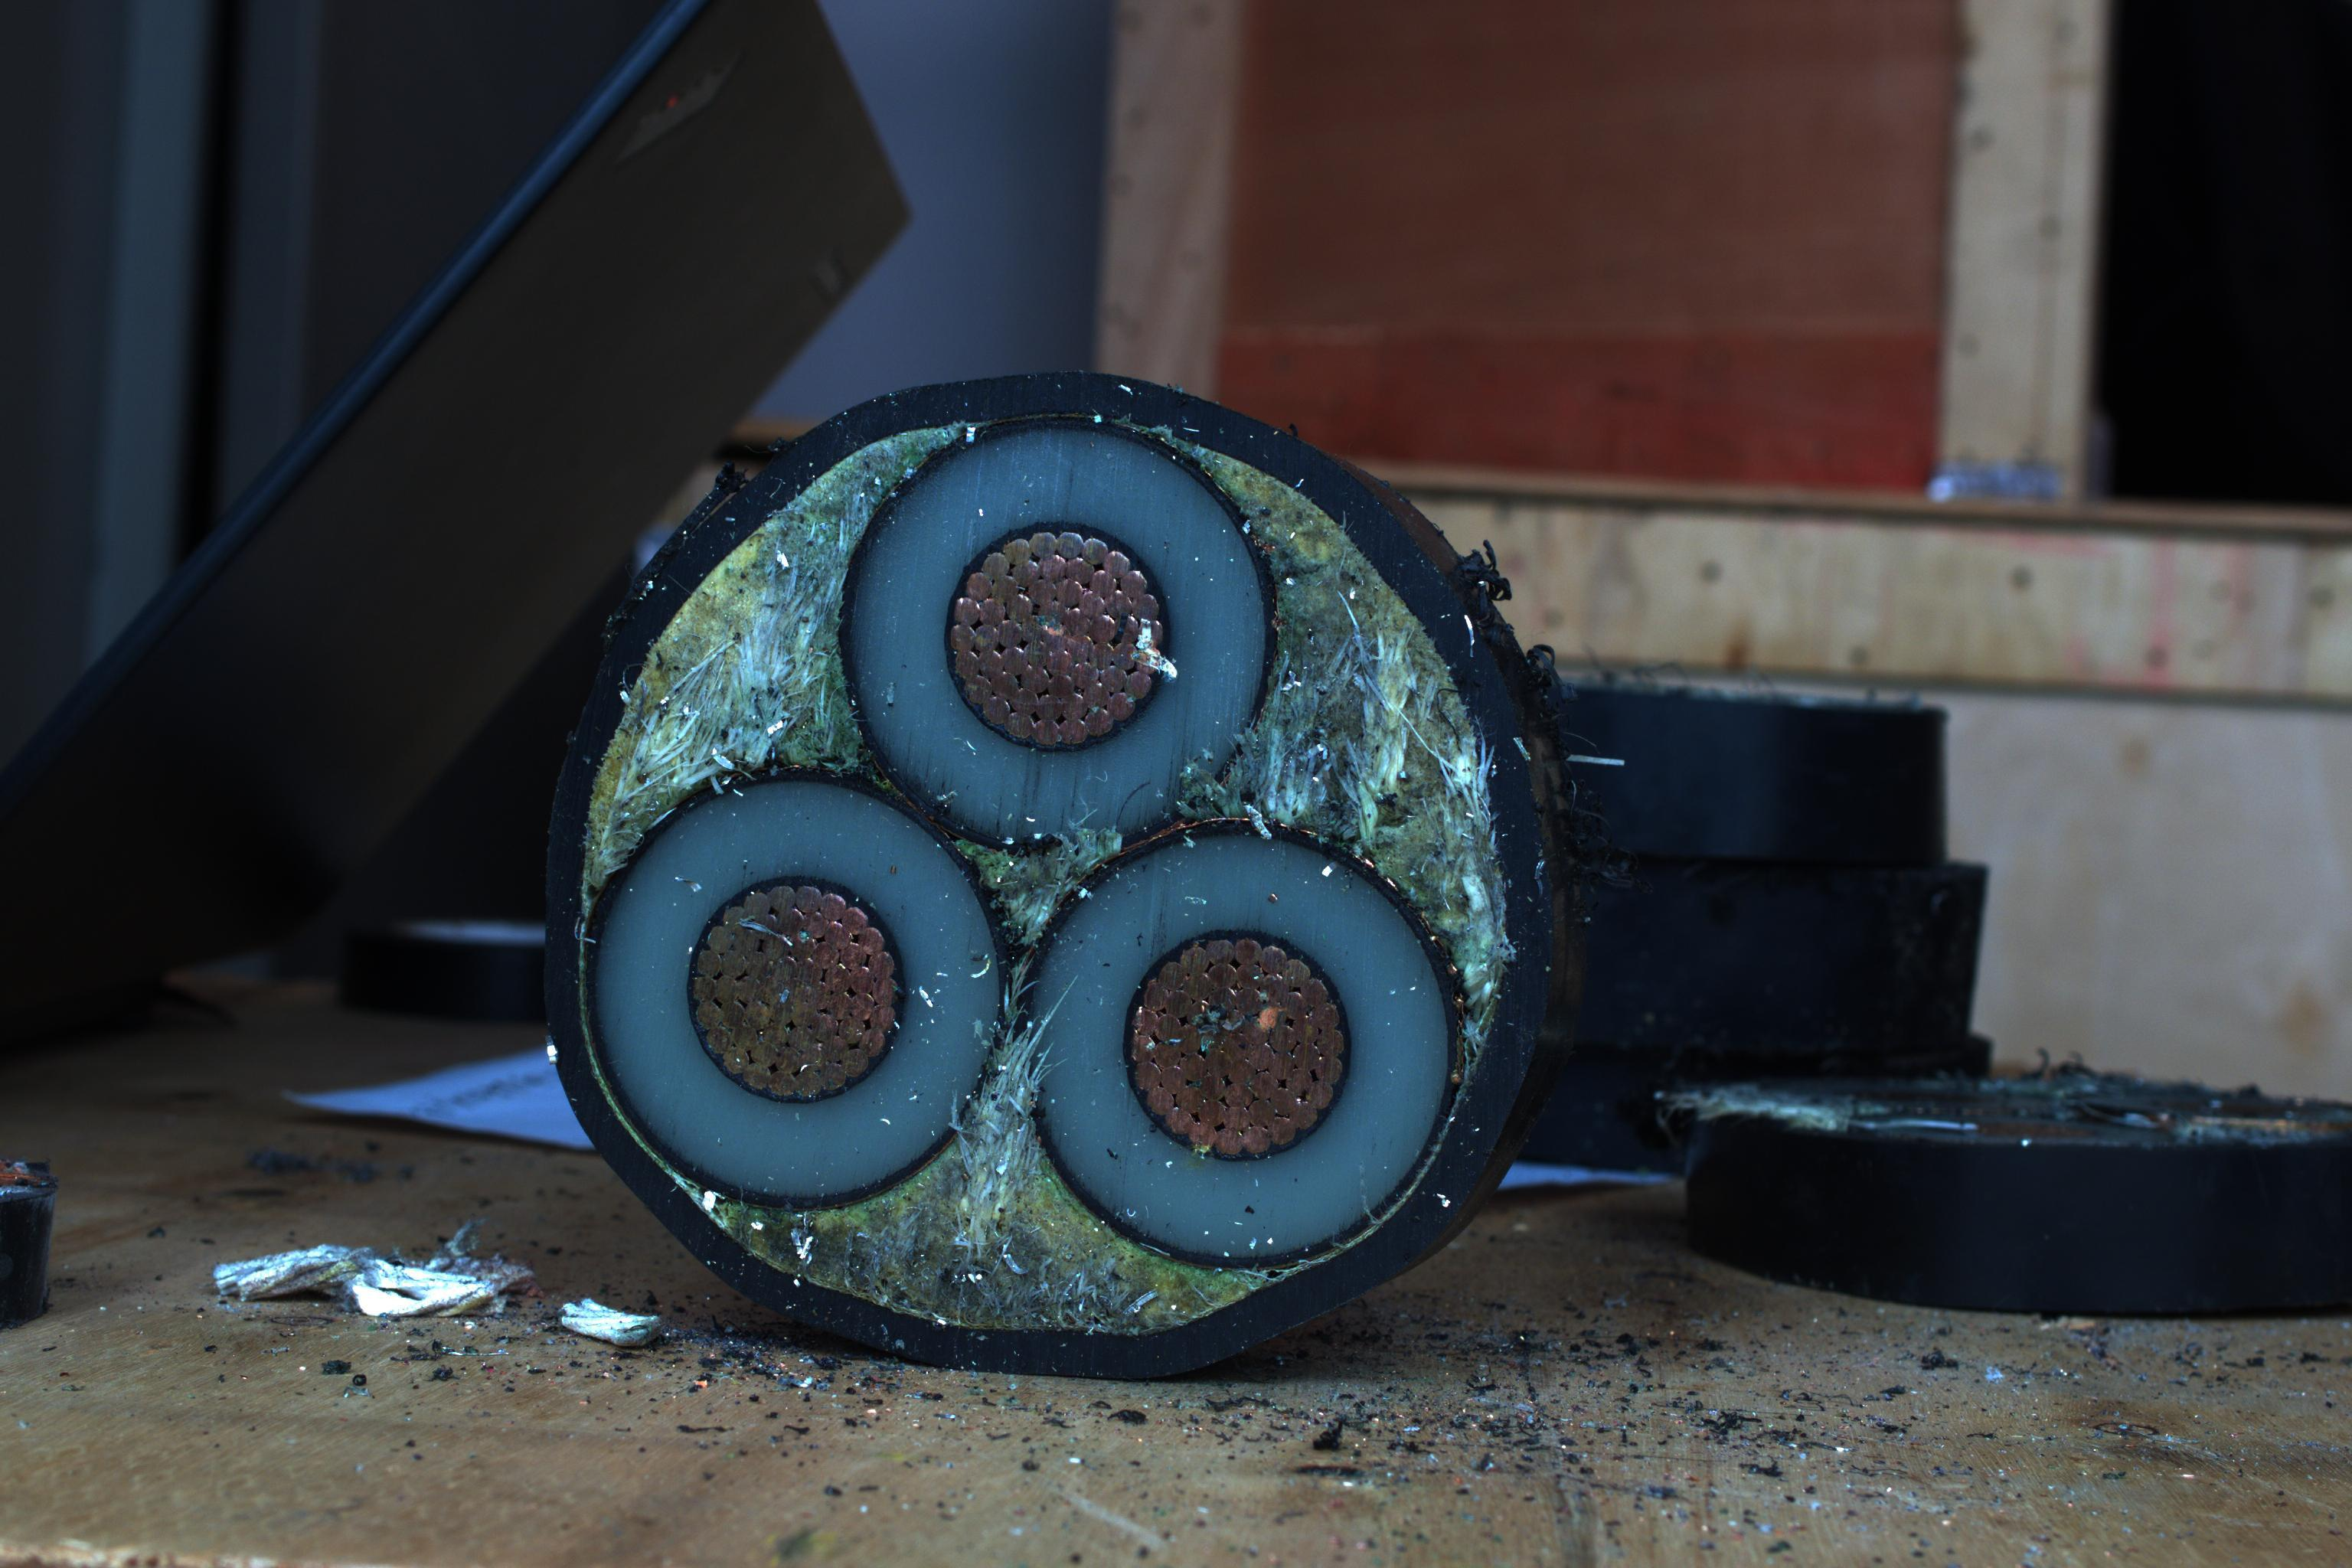ZA_YJV_26_35kV_3x400: (530, 388, 1573, 1402)
